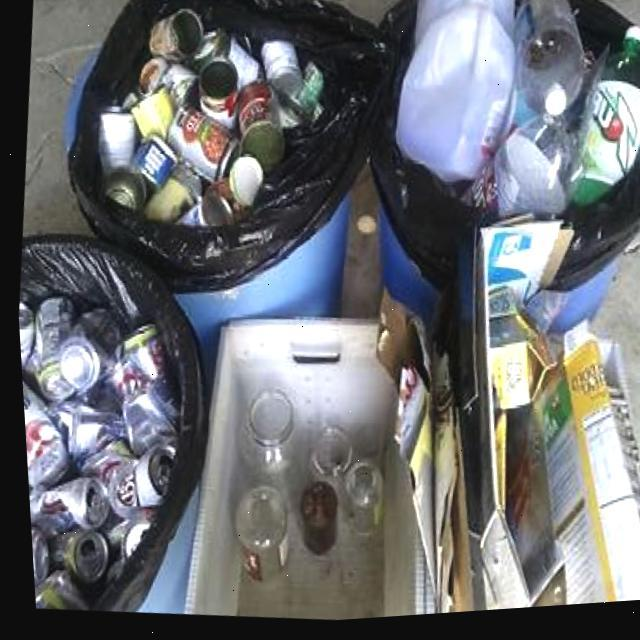Cardboard: (470, 225, 640, 612)
Garbage: (177, 321, 464, 622), (466, 227, 640, 617), (395, 0, 640, 222), (14, 295, 174, 608), (98, 10, 321, 228)
Glass_bottle: (228, 486, 279, 583), (234, 393, 287, 480), (337, 463, 375, 538), (293, 484, 330, 556), (303, 428, 345, 480)
Plastic_Container: (393, 0, 513, 187)
Plastic_bottle: (566, 35, 640, 211), (457, 121, 568, 223), (513, 0, 582, 122)
can: (54, 309, 116, 395), (21, 295, 71, 401), (101, 446, 168, 516), (18, 383, 62, 486), (165, 108, 227, 181), (23, 476, 102, 532), (235, 84, 282, 172), (191, 32, 258, 90), (116, 391, 169, 455), (140, 165, 198, 222), (42, 528, 99, 585), (61, 407, 116, 460), (149, 9, 202, 62), (197, 61, 235, 130), (71, 440, 128, 485), (259, 44, 300, 105), (174, 186, 231, 228), (116, 325, 159, 380), (131, 137, 174, 187), (28, 569, 79, 611), (96, 113, 133, 169), (129, 89, 171, 138), (101, 168, 142, 211), (226, 156, 259, 208), (159, 64, 195, 107), (294, 65, 321, 118), (139, 59, 166, 94), (25, 529, 41, 586), (116, 521, 141, 556), (15, 300, 28, 359), (276, 105, 299, 130)
